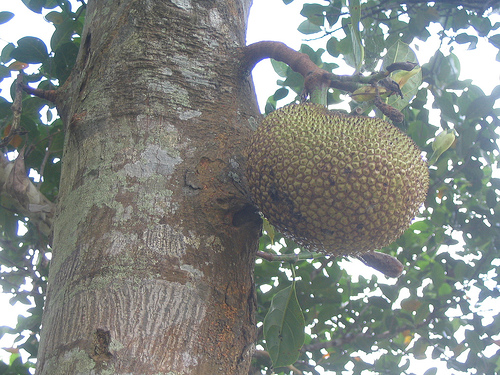jackfruit: (237, 102, 430, 258)
